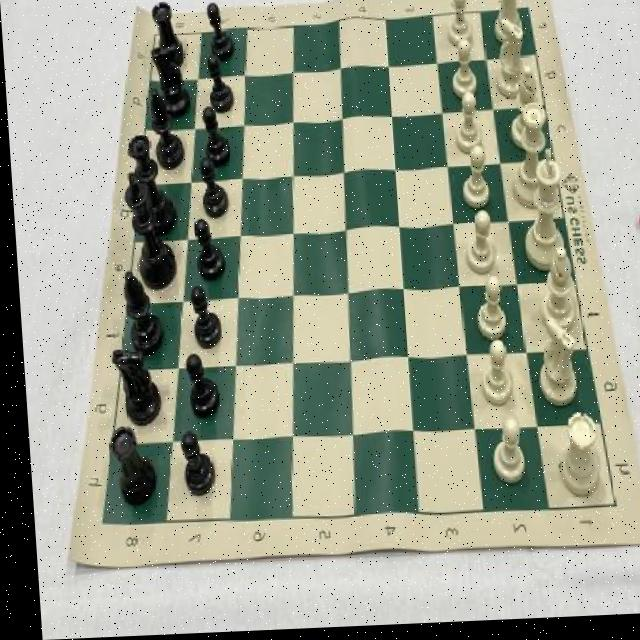bishop: (116, 267, 159, 353), (145, 89, 182, 170)
black-bishop: (119, 173, 174, 292)
black-king: (105, 348, 156, 425), (148, 45, 188, 119)
black-knight: (173, 432, 210, 501), (185, 285, 222, 352), (179, 353, 213, 423), (189, 219, 223, 282), (199, 108, 229, 169), (204, 4, 233, 65), (197, 159, 226, 220), (205, 57, 233, 116)
black-pawn: (124, 135, 174, 238)
black-queen: (100, 425, 150, 508), (151, 3, 186, 70)
black-rook: (533, 251, 572, 335), (505, 69, 540, 155)
white-bishop: (514, 153, 563, 277)
white-king: (529, 323, 573, 412), (491, 22, 528, 102)
white-knight: (482, 418, 525, 489), (474, 343, 509, 409), (460, 214, 492, 278), (456, 149, 487, 214), (470, 282, 502, 344), (446, 42, 477, 104), (450, 96, 480, 157), (444, 0, 473, 53)
white-pawn: (507, 106, 550, 214)
white-queen: (550, 417, 598, 503), (491, 0, 523, 49)
